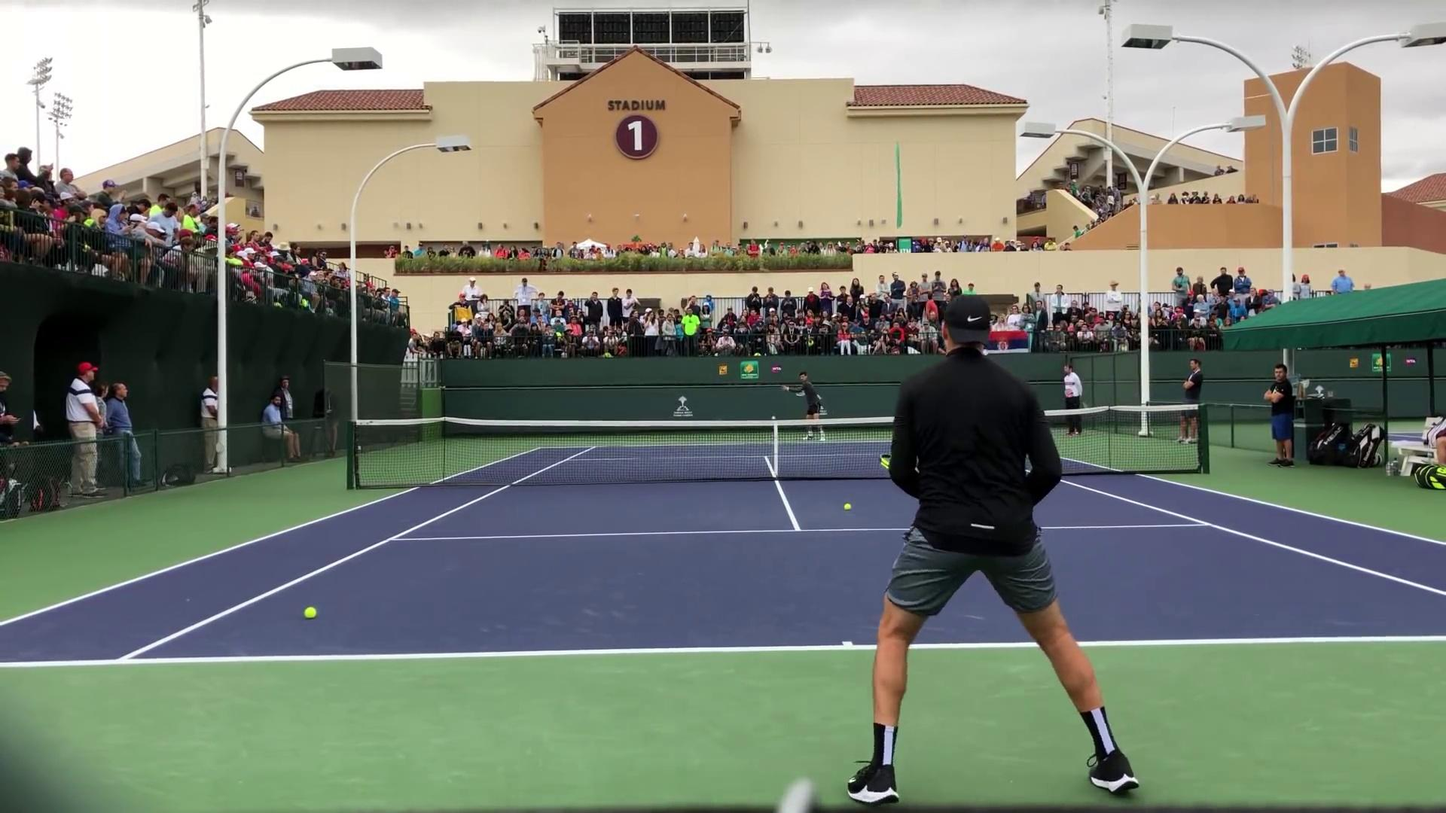ball: (303, 606, 318, 618), (768, 412, 779, 423), (843, 502, 851, 510)
